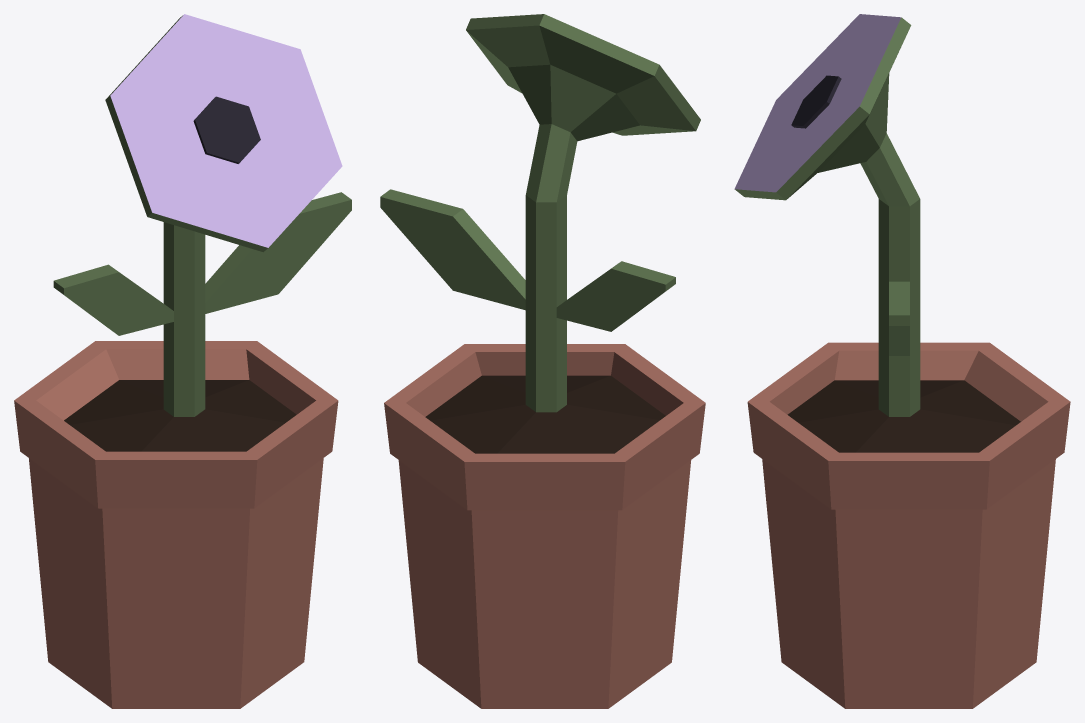
The model's file is FLOWER.fbx.
The picture shows the model from 3 angles, left to right: view 1: azimuth 30°, elevation 25°; view 2: azimuth 150°, elevation 25°; view 3: azimuth 270°, elevation 25°; orthographic projection.
Visible parts, largest first — view 1: Circle.005; view 2: Circle.005; view 3: Circle.005.
Boxes of the visible parts, left/top/right/bottom form: Circle.005: left=14, top=14, right=351, bottom=708; Circle.005: left=380, top=14, right=705, bottom=708; Circle.005: left=734, top=14, right=1070, bottom=708.
Bounding box in the file's own units: 1.24 × 2.67 × 1.26.
